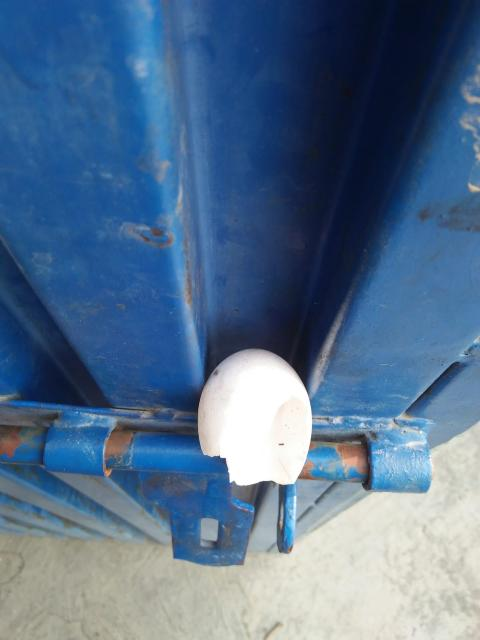Roto: (196, 347, 313, 487)
